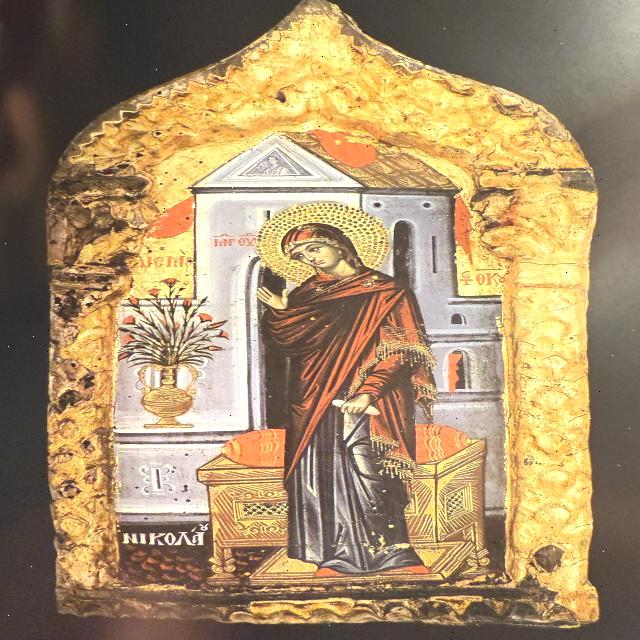aura: (259, 204, 391, 280)
mary: (236, 205, 454, 577)
scroll: (328, 397, 388, 423)
